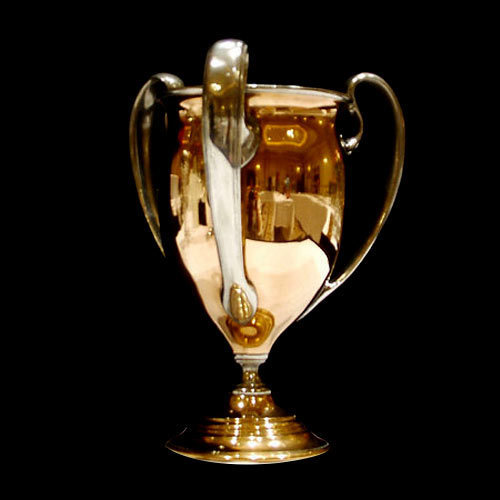trophy: (125, 34, 409, 465)
